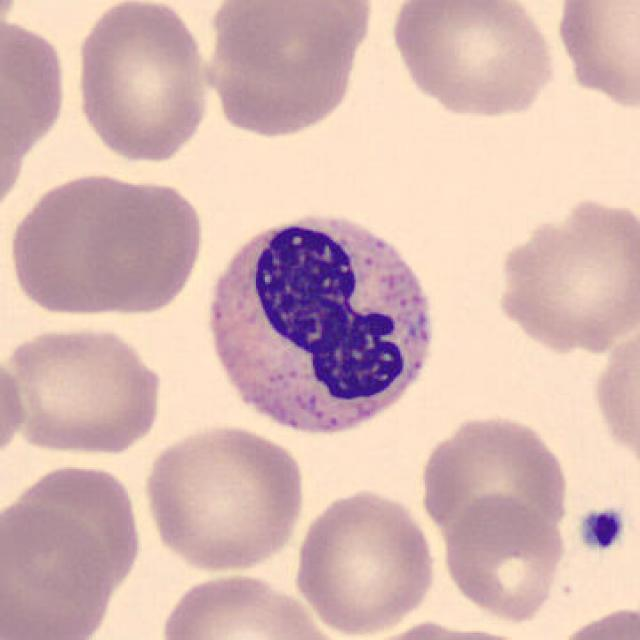Neutrophil: (196, 199, 448, 450)
Platelets: (574, 504, 630, 554)
RBC: (139, 420, 309, 574), (3, 168, 165, 319), (69, 0, 215, 167), (491, 191, 638, 356), (201, 2, 370, 141), (4, 319, 167, 459), (290, 485, 439, 636), (384, 0, 562, 122), (416, 411, 574, 545), (8, 460, 150, 605), (76, 175, 206, 318), (439, 492, 567, 624), (0, 499, 117, 640), (155, 569, 341, 640), (0, 12, 71, 174), (207, 0, 380, 65), (551, 0, 640, 118), (588, 316, 638, 480), (0, 347, 30, 471), (550, 601, 638, 640), (347, 619, 501, 640), (393, 624, 547, 640), (0, 0, 27, 41)
